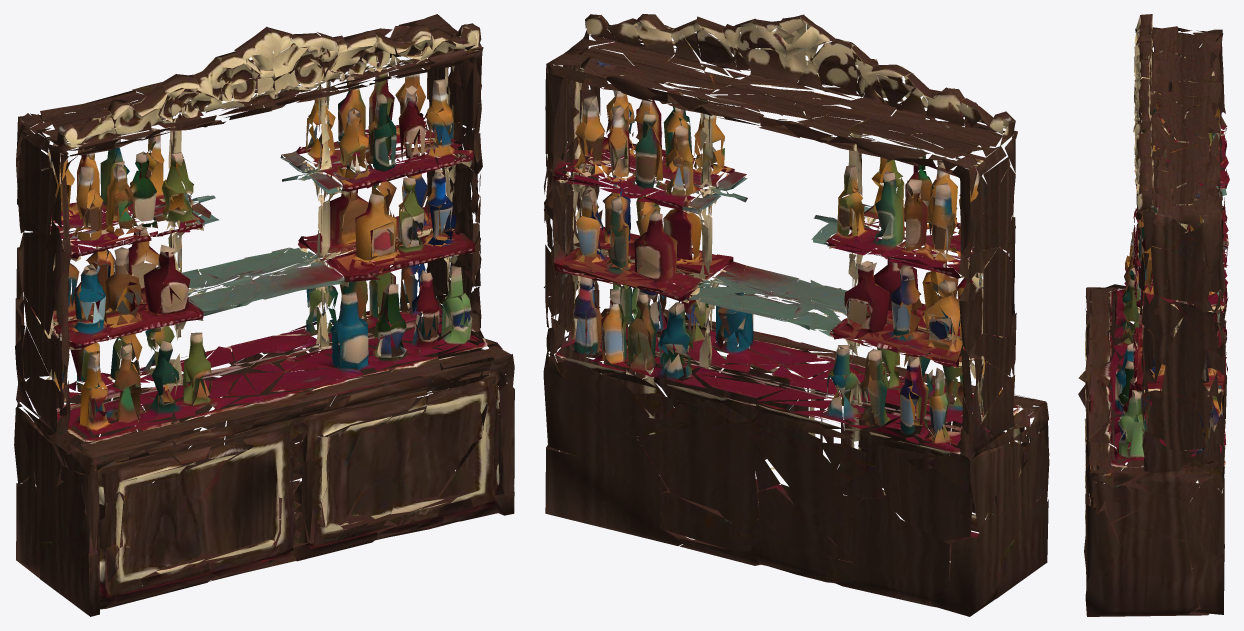
Rendered from backBar.glb.
3 views of the same model, side by side, from view 1: azimuth 30°, elevation 25°; view 2: azimuth 150°, elevation 25°; view 3: azimuth 270°, elevation 25° (orthographic). The views are drawn at different scales.
Parts seen in each view (by area): view 1: Mesh_0; view 2: Mesh_0; view 3: Mesh_0.
Boxes of the visible parts, left/top/right/bottom form: Mesh_0: left=14, top=14, right=514, bottom=616; Mesh_0: left=543, top=14, right=1049, bottom=616; Mesh_0: left=1078, top=14, right=1229, bottom=616.
Bounding box in the file's own units: 2.27 × 2.6 × 0.7657.
1 material, 1 textured.
